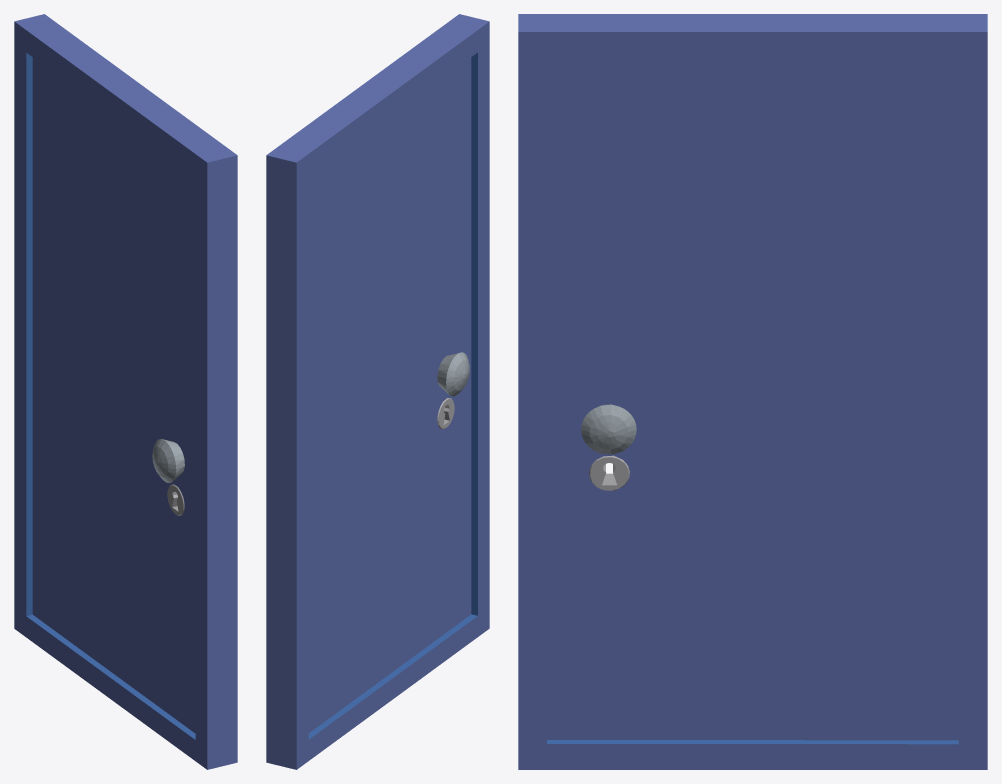
Rendered from Door.obj.
3 views of the same model, side by side, from view 1: azimuth 30°, elevation 25°; view 2: azimuth 150°, elevation 25°; view 3: azimuth 270°, elevation 25° (orthographic). The views are drawn at different scales.
Parts seen in each view (by area): view 1: Куб.013; view 2: Куб.013; view 3: Куб.013.
Boxes of the visible parts, x1,y1,x2,y2 form: Куб.013: [14, 14, 237, 769]; Куб.013: [266, 14, 489, 769]; Куб.013: [518, 14, 987, 769].
Bounding box in the file's own units: 0.2601 × 2.66 × 1.53.
